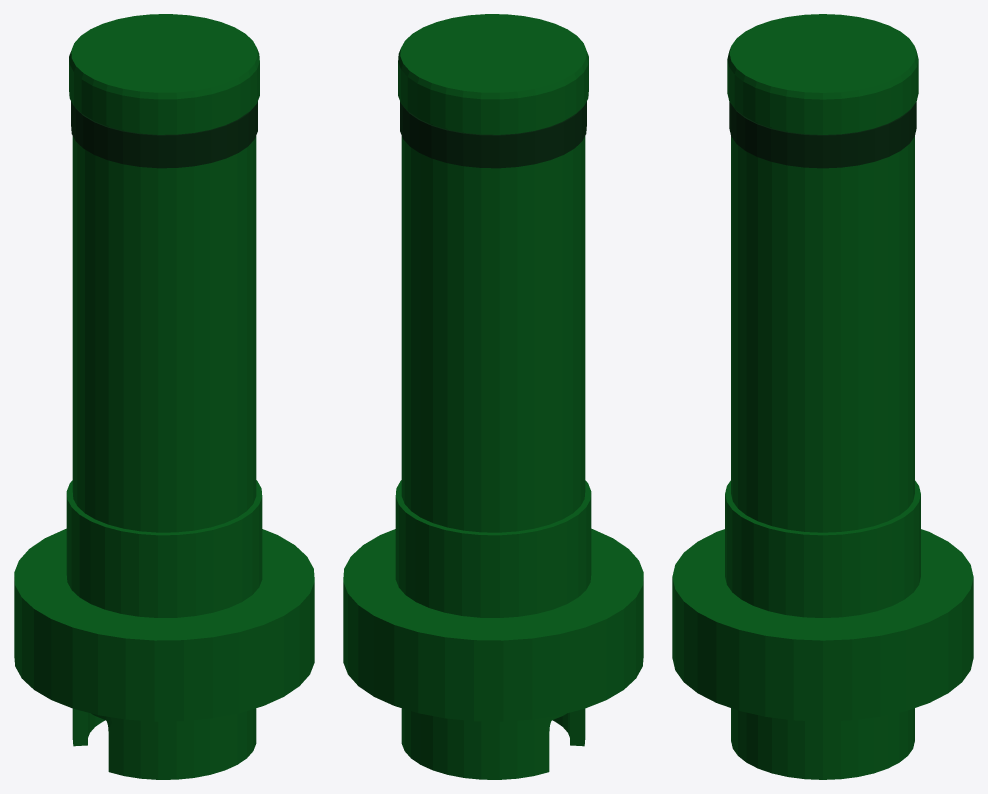
File: green_pole_buoy.obj
3 renders of one model, left to right at view 1: azimuth 30°, elevation 25°; view 2: azimuth 150°, elevation 25°; view 3: azimuth 270°, elevation 25°, orthographic.
Visible parts, largest first — view 1: Cylinder; view 2: Cylinder; view 3: Cylinder.
Boxes of the visible parts, x1=… form: Cylinder: x1=14, y1=14, x2=314, y2=779; Cylinder: x1=343, y1=14, x2=643, y2=779; Cylinder: x1=672, y1=14, x2=973, y2=779.
Size of the model in its own units: 0.4161 by 1.05 by 0.4161.
